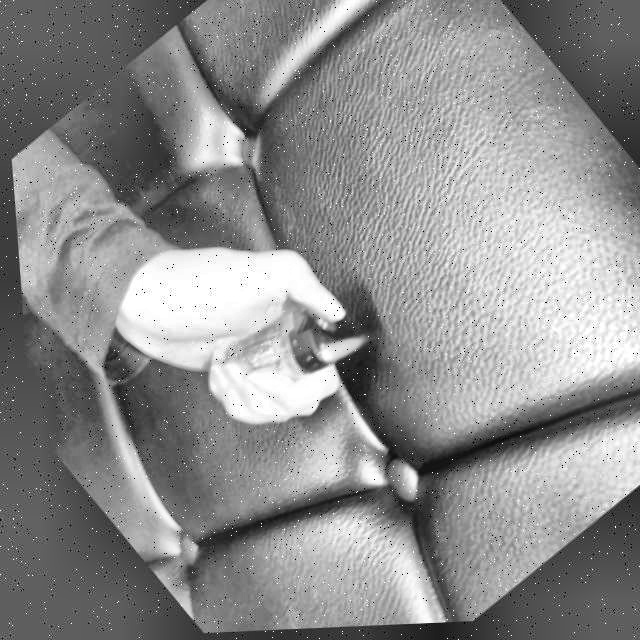Fire: (305, 321, 365, 375)
